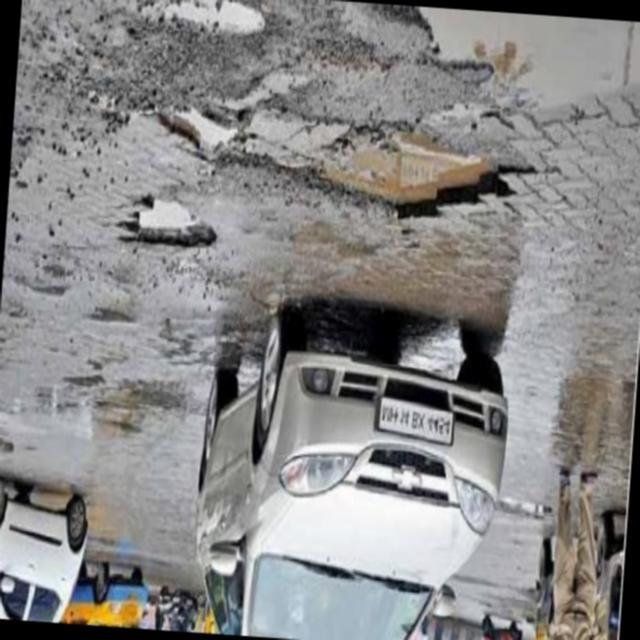Pothole: (154, 109, 512, 218), (119, 193, 219, 248)
